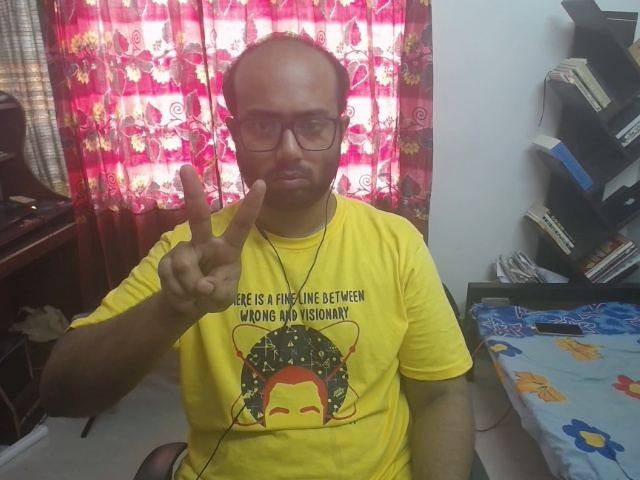two: (146, 150, 307, 330)
